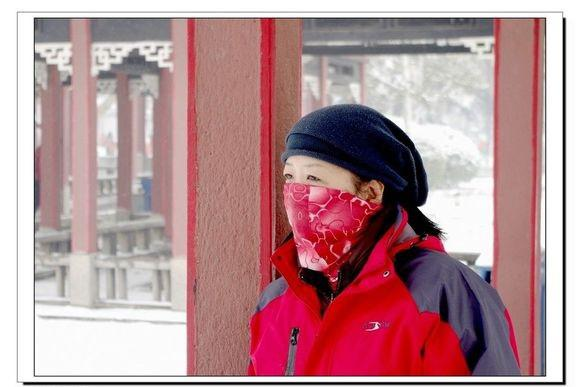OK: (278, 163, 376, 261)
